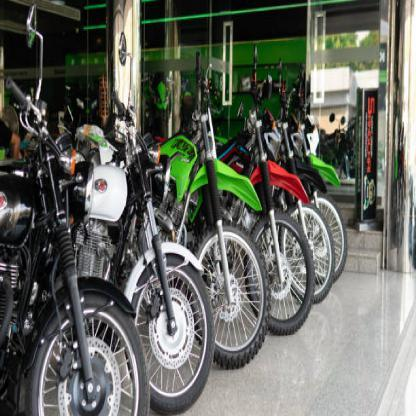Motorcycle: (0, 0, 155, 415)
